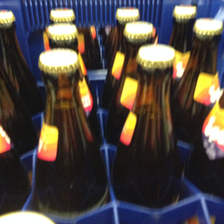soda: (36, 47, 108, 218), (113, 43, 182, 208)
